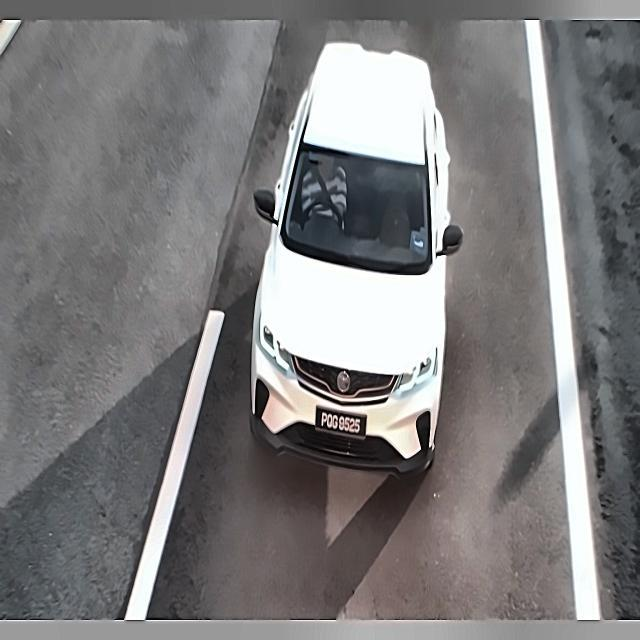car: (312, 401, 370, 444)
